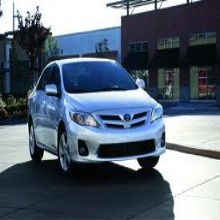no damage: (27, 56, 167, 174)
